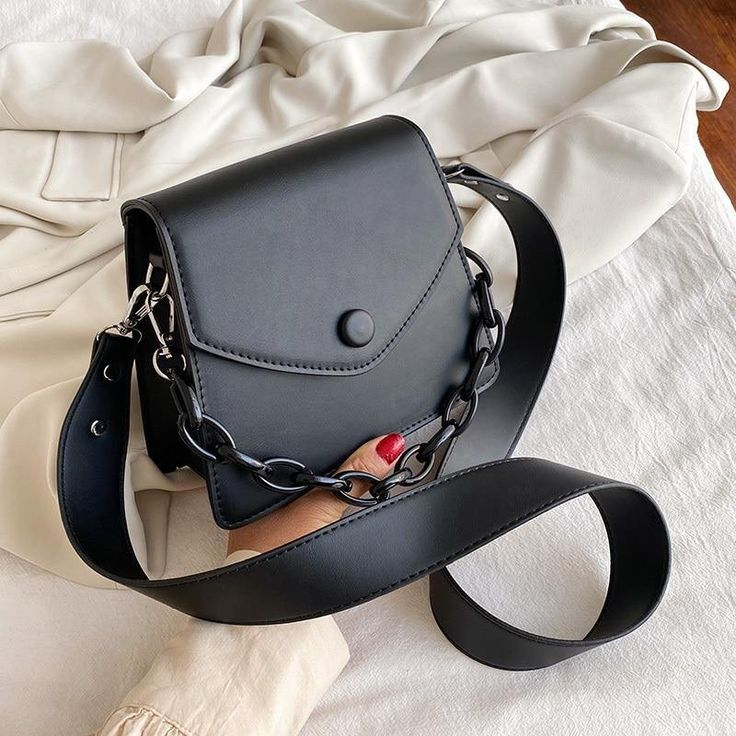cuero: (54, 113, 671, 671)
